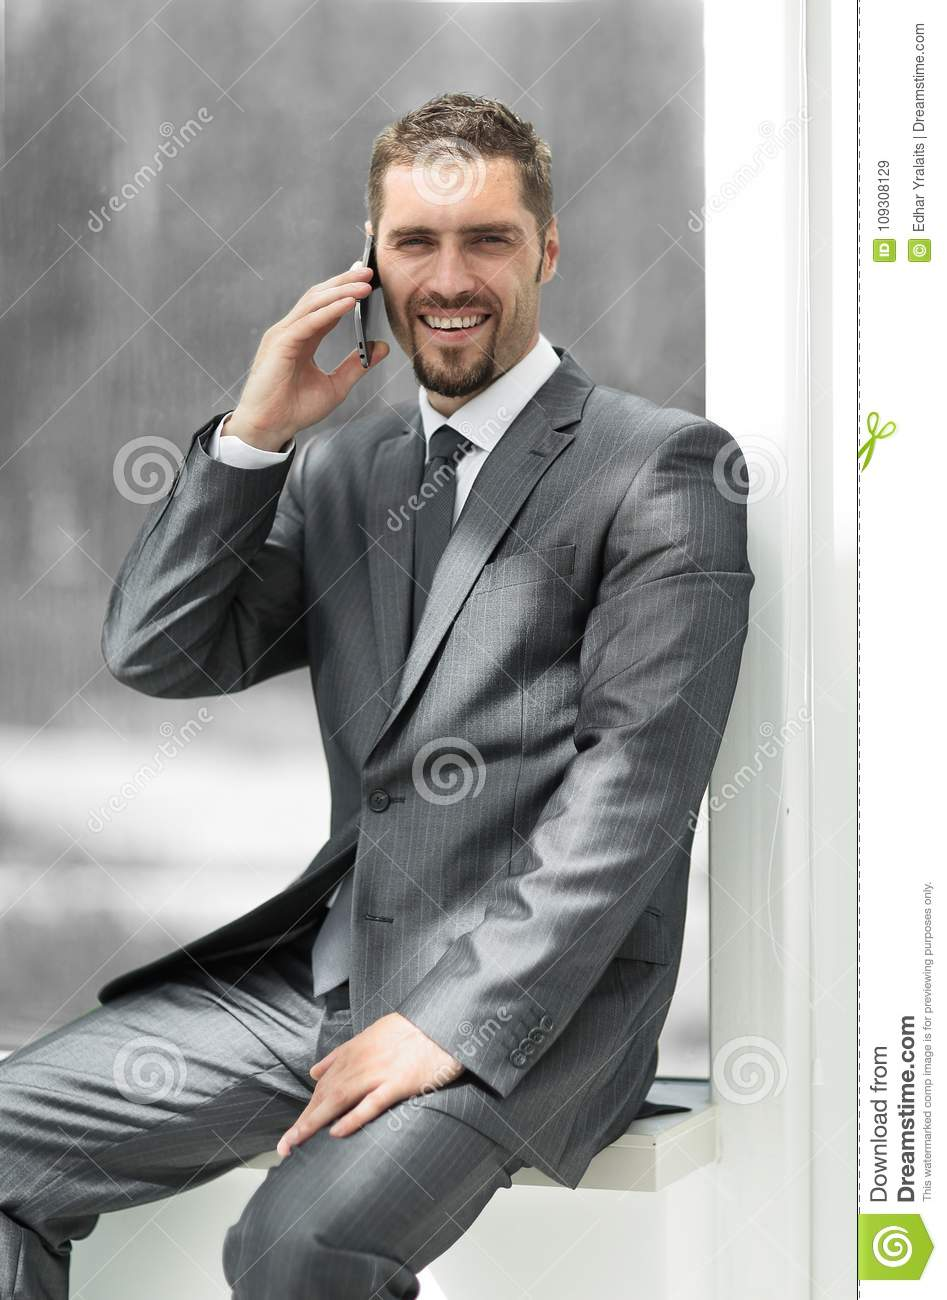phone: (354, 229, 385, 381)
talk: (243, 213, 540, 450)
